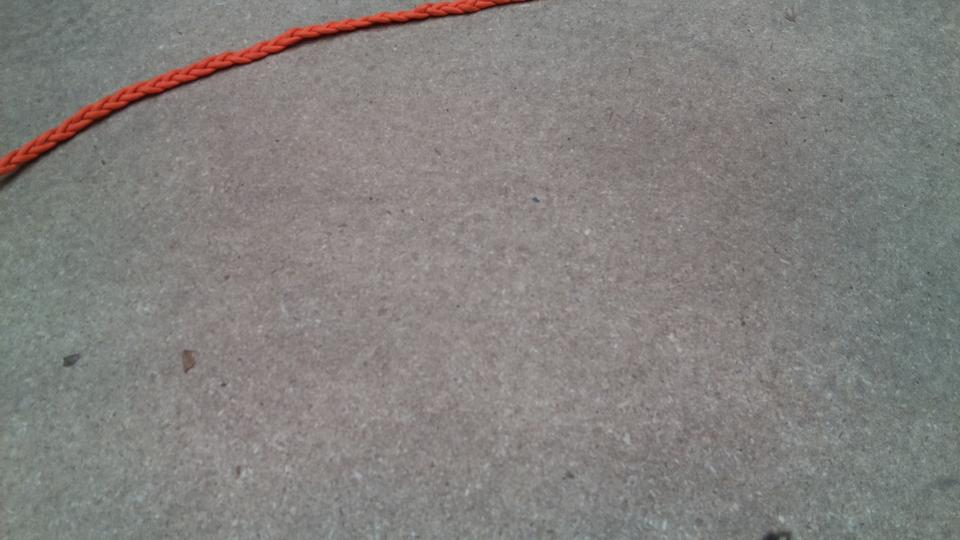rope: (1, 1, 485, 182)
